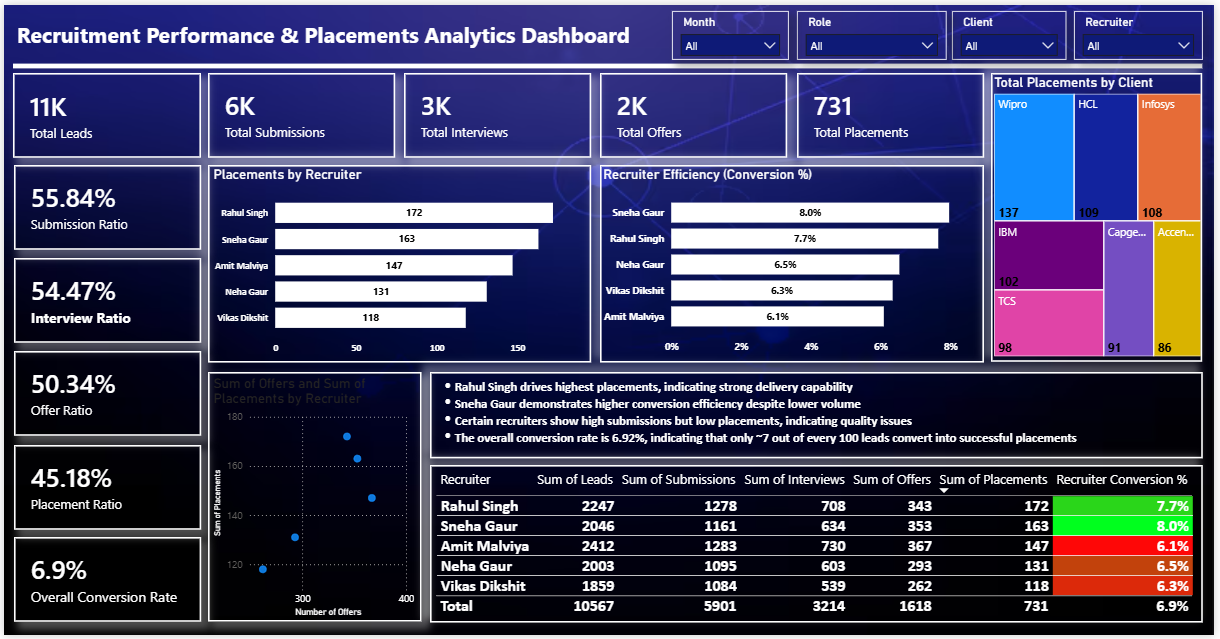

Layout of this report page (visuals, bound fields, positions):
{"tool":"powerbi","page":{"name":"Recruiters, Clients and Roles Analysis","canvas":[1512,787],"ordinal":1},"visuals":[{"type":"cardVisual","fields":{"Data":["Table1.Placement Rate2"]},"box":[12.2,550,234.4,105.6],"z":0},{"type":"cardVisual","fields":{"Data":["Table1.Recruiter Conversion %"]},"box":[12.2,665.6,234.4,105.6],"z":1000},{"type":"cardVisual","fields":{"Data":["Table1.Interview Rate2"]},"box":[12.2,316.7,234.4,105.6],"z":2000},{"type":"clusteredBarChart","fields":{"Category":["Table1.Recruiter"],"Y":["Table1.Total Placements"]},"box":[255.6,200,478.9,246.7],"z":3000},{"type":"barChart","title":"Recruiter Efficiency (Conversion %)","fields":{"Category":["Table1.Recruiter"],"Y":["Table1.Recruiter Conversion %"]},"box":[745.6,200,480,246.7],"z":4000},{"type":"tableEx","fields":{"Values":["Table1.Recruiter","Sum(Table1.Leads)","Sum(Table1.Submissions)","Sum(Table1.Interviews)","Sum(Table1.Offers)","Sum(Table1.Placements)","Table1.Recruiter Conversion %"]},"box":[532.2,574.4,965.6,196.7],"z":5000},{"type":"textbox","box":[532.2,458.9,965.6,107.8],"z":6000},{"type":"cardVisual","fields":{"Data":["Table1.Submission Rate2"]},"box":[12.2,200,234.4,105.6],"z":7000},{"type":"cardVisual","fields":{"Data":["Table1.Offer Rate2"]},"box":[12.2,432.2,234.4,105.6],"z":8000},{"type":"cardVisual","fields":{"Data":["Table1.Total Leads"]},"box":[11,85,235,106],"z":9000},{"type":"cardVisual","fields":{"Data":["Table1.Total Submissions"]},"box":[255.6,85.6,234.4,105.6],"z":10000},{"type":"cardVisual","fields":{"Data":["Table1.Total Interviews"]},"box":[500,85.6,234.4,105.6],"z":11000},{"type":"cardVisual","fields":{"Data":["Table1.Total Offers"]},"box":[745.6,84.4,234.4,105.6],"z":12000},{"type":"cardVisual","fields":{"Data":["Table1.Total Placements"]},"box":[991.1,84.4,234.4,105.6],"z":13000},{"type":"shape","box":[11.1,51.1,1486.7,50],"z":14000},{"type":"textbox","box":[11.1,13.3,777.8,51.1],"z":15000},{"type":"treemap","fields":{"Group":["Table1.Client"],"Values":["Table1.Total Placements"]},"box":[1233.3,85.6,264.4,361.1],"z":16000},{"type":"slicer","fields":{"Values":["Table1.Client"]},"box":[1185.6,7.8,143.3,61.1],"z":17000},{"type":"slicer","fields":{"Values":["Table1.Recruiter"]},"box":[1337.8,7.8,161.1,61.1],"z":18000},{"type":"slicer","fields":{"Values":["Table1.Role"]},"box":[991.1,7.8,186.7,61.1],"z":19000},{"type":"slicer","fields":{"Values":["Table1.Date.Variation.Date Hierarchy.Month"]},"box":[834.4,7.8,145.6,61.1],"z":20000},{"type":"scatterChart","fields":{"Category":["Table1.Recruiter"],"X":["Sum(Table1.Offers)"],"Y":["Sum(Table1.Placements)"]},"box":[255.6,458.9,266.7,312.2],"z":21000}]}

Visuals, with their boxes in screenshot pixels (x1, y1, x2, y2), scaled from the page's 1512x787 canvas onto the 1220x639 screenshot:
cardVisual - Table1.Placement Rate2: box=[10, 447, 199, 532]
cardVisual - Table1.Recruiter Conversion %: box=[10, 540, 199, 626]
cardVisual - Table1.Interview Rate2: box=[10, 257, 199, 343]
clusteredBarChart - Table1.Recruiter x Table1.Total Placements: box=[206, 162, 593, 363]
"Recruiter Efficiency (Conversion %)" barChart: box=[602, 162, 989, 363]
tableEx - Table1.Recruiter x Sum(Table1.Leads): box=[429, 466, 1209, 626]
textbox: box=[429, 373, 1209, 460]
cardVisual - Table1.Submission Rate2: box=[10, 162, 199, 248]
cardVisual - Table1.Offer Rate2: box=[10, 351, 199, 437]
cardVisual - Table1.Total Leads: box=[9, 69, 198, 155]
cardVisual - Table1.Total Submissions: box=[206, 70, 395, 155]
cardVisual - Table1.Total Interviews: box=[403, 70, 593, 155]
cardVisual - Table1.Total Offers: box=[602, 69, 791, 154]
cardVisual - Table1.Total Placements: box=[800, 69, 989, 154]
shape: box=[9, 41, 1209, 82]
textbox: box=[9, 11, 637, 52]
treemap - Table1.Client x Table1.Total Placements: box=[995, 70, 1208, 363]
slicer - Table1.Client: box=[957, 6, 1072, 56]
slicer - Table1.Recruiter: box=[1079, 6, 1209, 56]
slicer - Table1.Role: box=[800, 6, 950, 56]
slicer - Table1.Date.Variation.Date Hierarchy.Month: box=[673, 6, 791, 56]
scatterChart - Table1.Recruiter x Sum(Table1.Offers): box=[206, 373, 421, 626]
